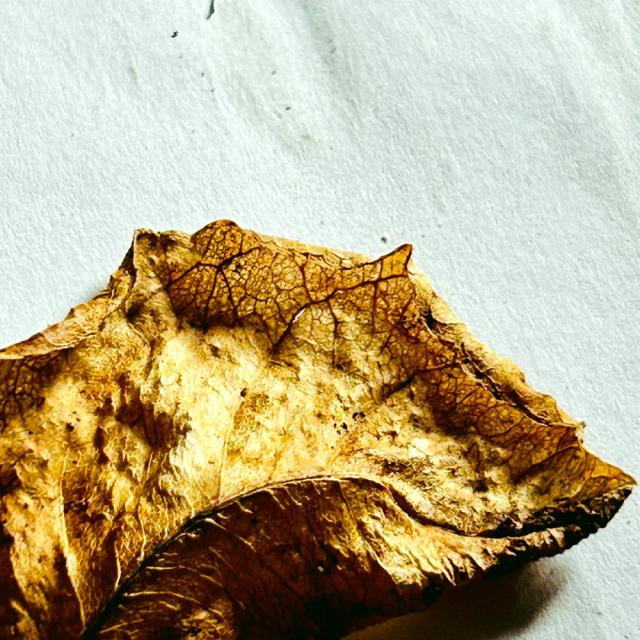DryLeaf_Lemon: (0, 220, 634, 639)
